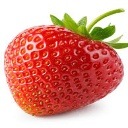strawberry: (3, 17, 128, 117)
